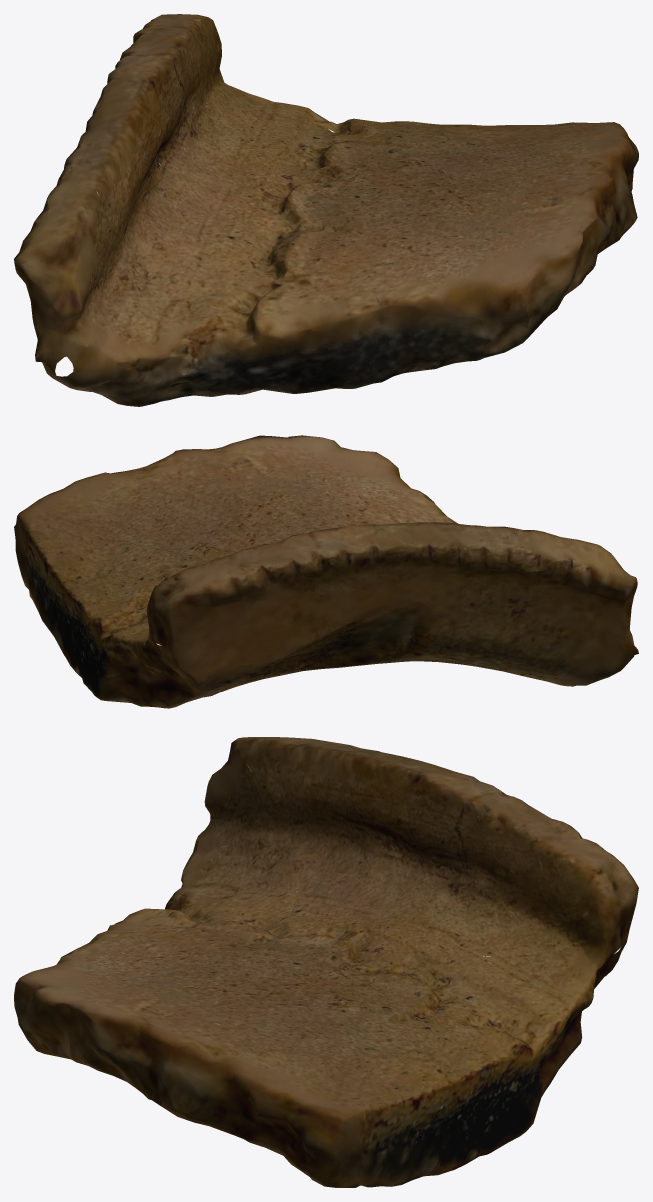
Rendered from nlo.glb.
3 views of the same model, one above another, from view 1: azimuth 30°, elevation 25°; view 2: azimuth 150°, elevation 25°; view 3: azimuth 270°, elevation 25° (orthographic). The views are drawn at different scales.
Size of the model in its own units: 0.0706 by 0.0232 by 0.056.
Materials: 1 (1 with a texture image).
